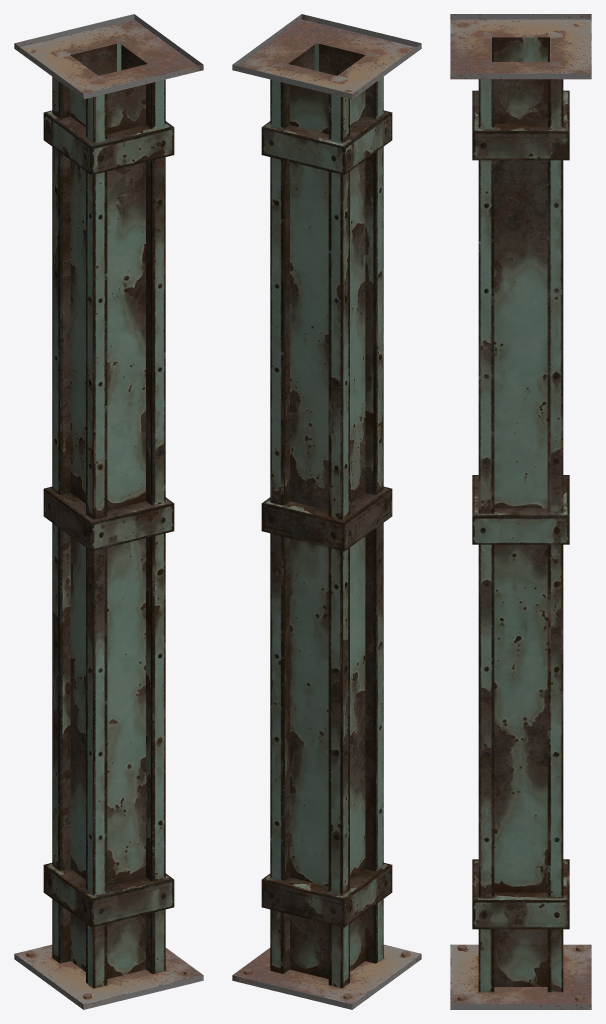
File: SM_Pillar_01.fbx
3 renders of one model, left to right at view 1: azimuth 30°, elevation 25°; view 2: azimuth 150°, elevation 25°; view 3: azimuth 270°, elevation 25°, orthographic. The views are drawn at different scales.
Visible parts, largest first — view 1: SM_Pillar_01; view 2: SM_Pillar_01; view 3: SM_Pillar_01.
Part boxes in pixels (x1,y1,x2,y2): SM_Pillar_01: [14, 14, 203, 1009]; SM_Pillar_01: [232, 14, 421, 1009]; SM_Pillar_01: [450, 14, 591, 1009].
Size of the model in its own units: 45 by 45 by 329.
Materials: 1 (1 with a texture image).
